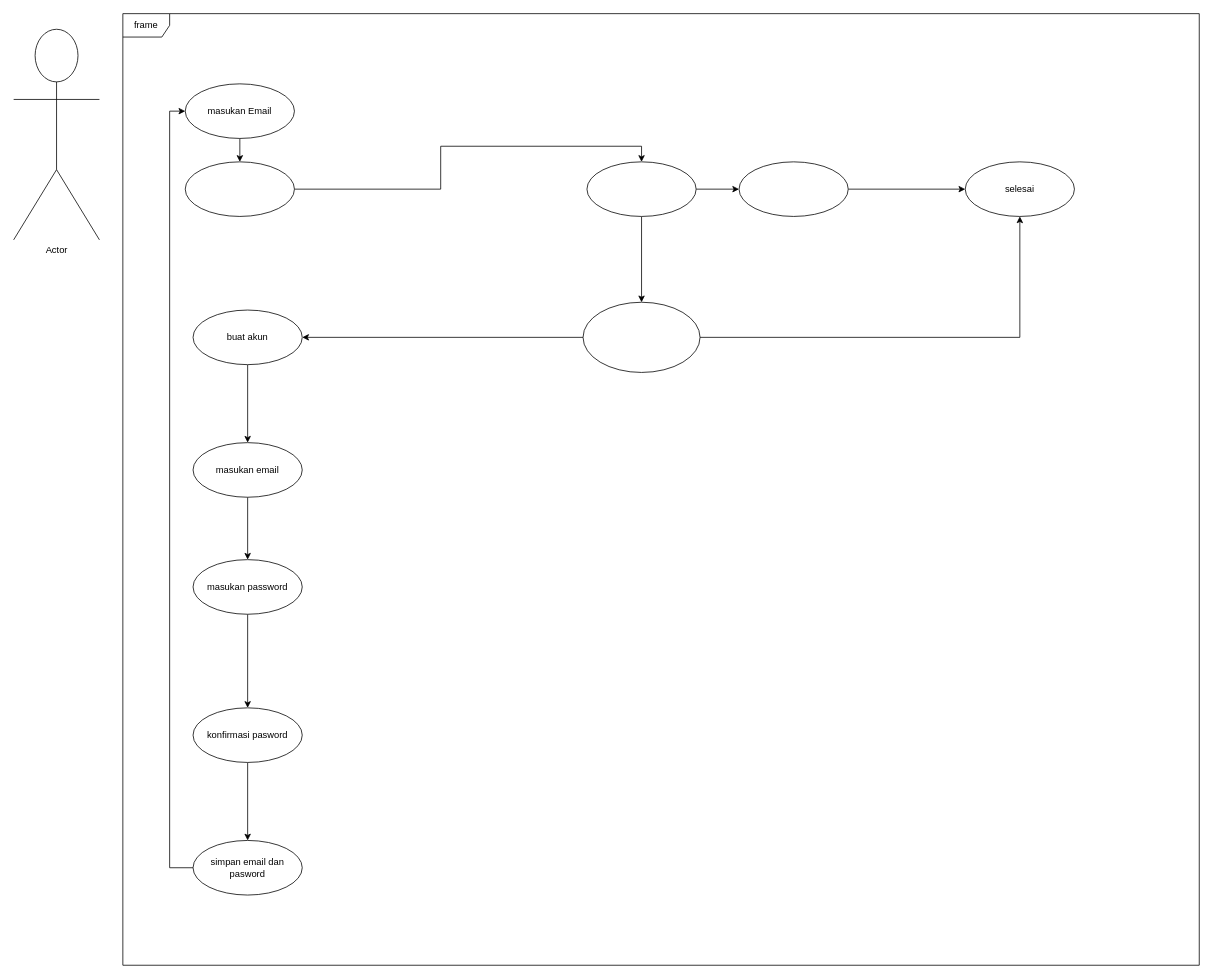
Some shapes in this 1213 by 979 pixel diagram are drawn without their labels. The shapes that lost their labels are listed below. From the top down, each one's centre as x and y in pixels, then its label:
pixel 239 188: password
pixel 641 188: validasi akun
pixel 793 188: profil utama
pixel 641 336: belum punya akun
